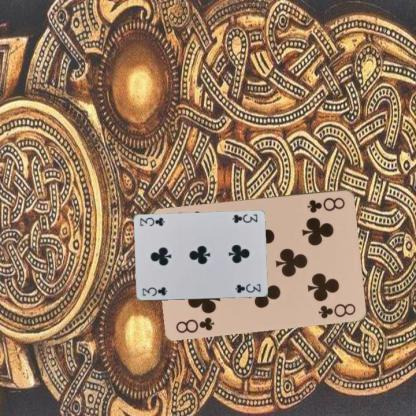3c: (140, 285, 168, 297), (230, 212, 258, 224)
8c: (174, 314, 216, 334), (305, 194, 346, 214)
